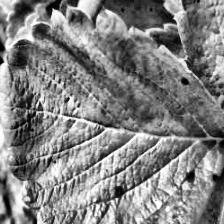Leaf Spot: (0, 5, 224, 224), (176, 0, 224, 191), (101, 0, 177, 32)
